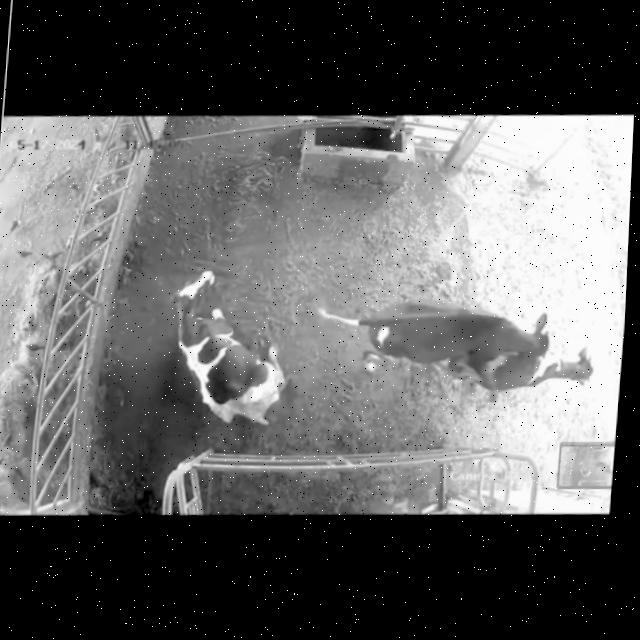lay: (148, 252, 315, 445)
ride: (298, 246, 559, 420)
stand: (457, 315, 608, 418)
